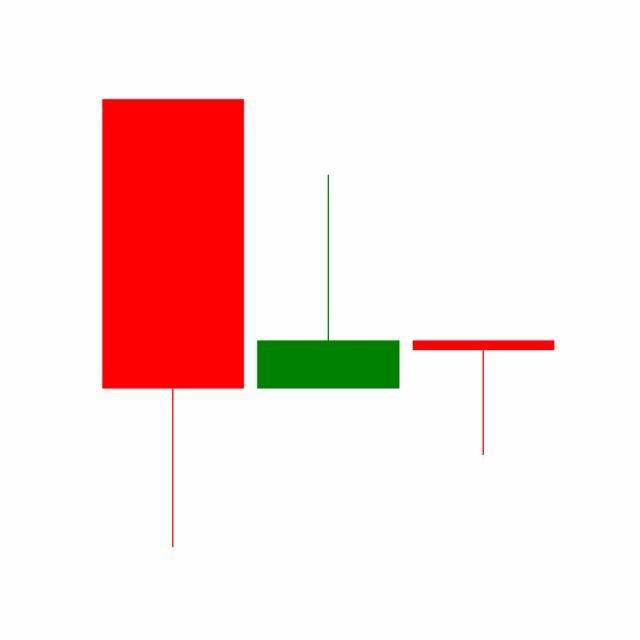Dragonfly Doji: (406, 340, 562, 458)
